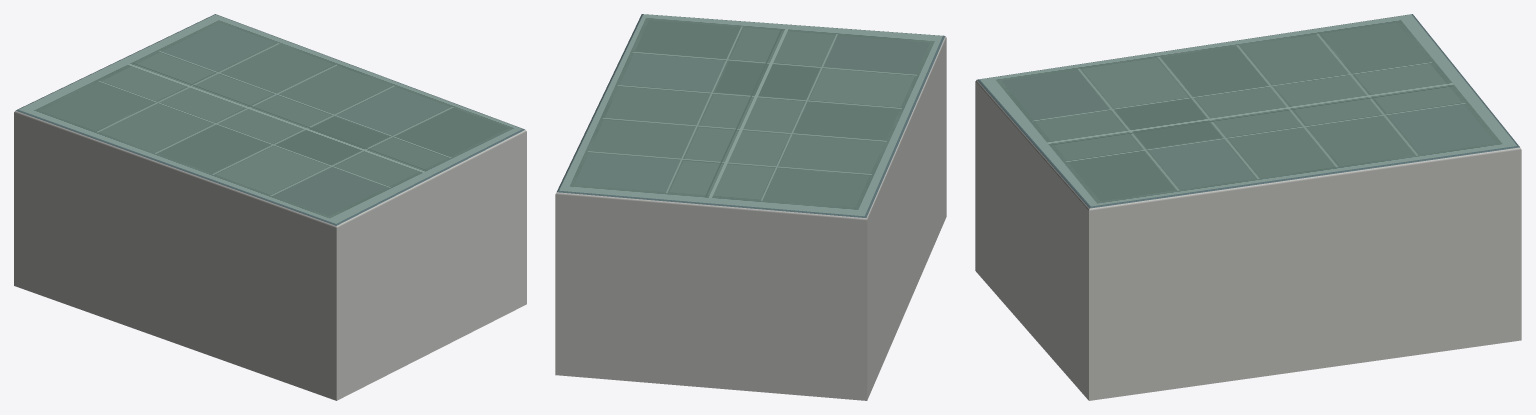
The model's file is intact.glb.
3 renders of one model, left to right at view 1: azimuth 30°, elevation 25°; view 2: azimuth 150°, elevation 25°; view 3: azimuth 270°, elevation 25°, orthographic. The views are drawn at different scales.
Parts seen in each view (by area): view 1: SM_gh43_Intact_00; view 2: SM_gh43_Intact_00; view 3: SM_gh43_Intact_00.
Part boxes in pixels (bbox=[...]): SM_gh43_Intact_00: bbox=[14, 14, 526, 400]; SM_gh43_Intact_00: bbox=[555, 14, 946, 400]; SM_gh43_Intact_00: bbox=[975, 14, 1521, 400].
Size of the model in its own units: 1.87 by 0.8608 by 2.2.
3 materials, 1 textured.
